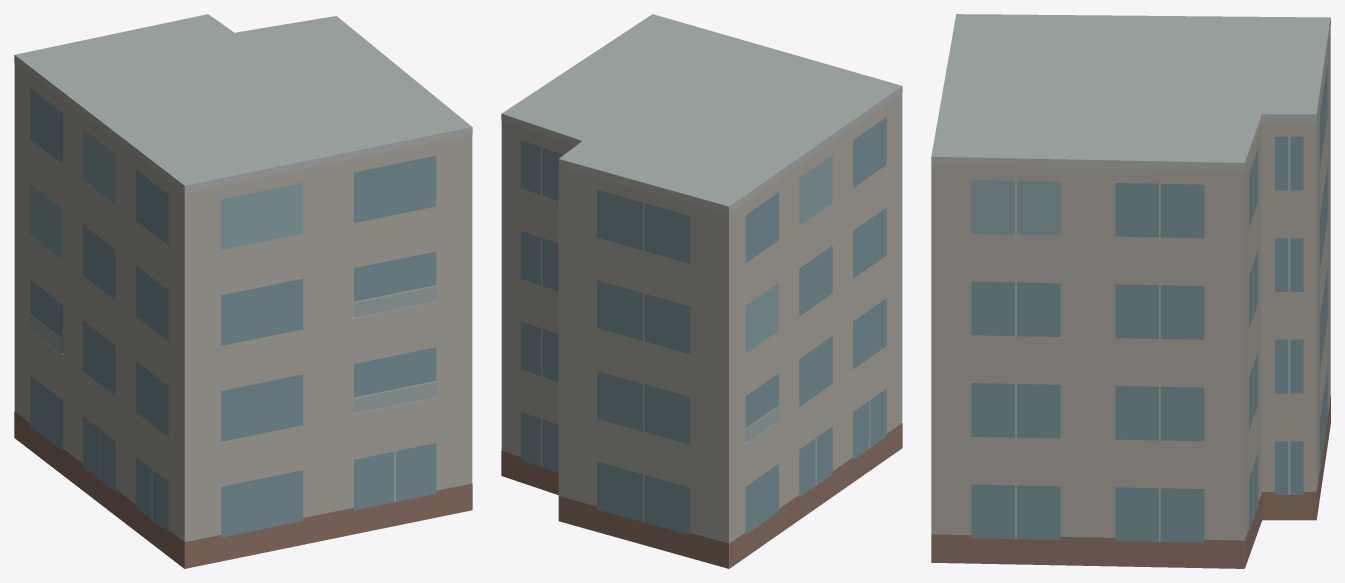
Rendered from survey-upis-32566273.glb.
The picture shows the model from 3 angles, left to right: view 1: azimuth 30°, elevation 25°; view 2: azimuth 150°, elevation 25°; view 3: azimuth 270°, elevation 25°; orthographic projection. The views are drawn at different scales.
Visible parts, largest first — view 1: survey-upis-32566273.tmp; view 2: survey-upis-32566273.tmp; view 3: survey-upis-32566273.tmp.
Boxes of the visible parts, bbox=[...] form: survey-upis-32566273.tmp: bbox=[14, 14, 472, 568]; survey-upis-32566273.tmp: bbox=[501, 14, 902, 568]; survey-upis-32566273.tmp: bbox=[931, 14, 1330, 568].
Bounding box in the file's own units: 9.61 × 12.2 × 10.89.
